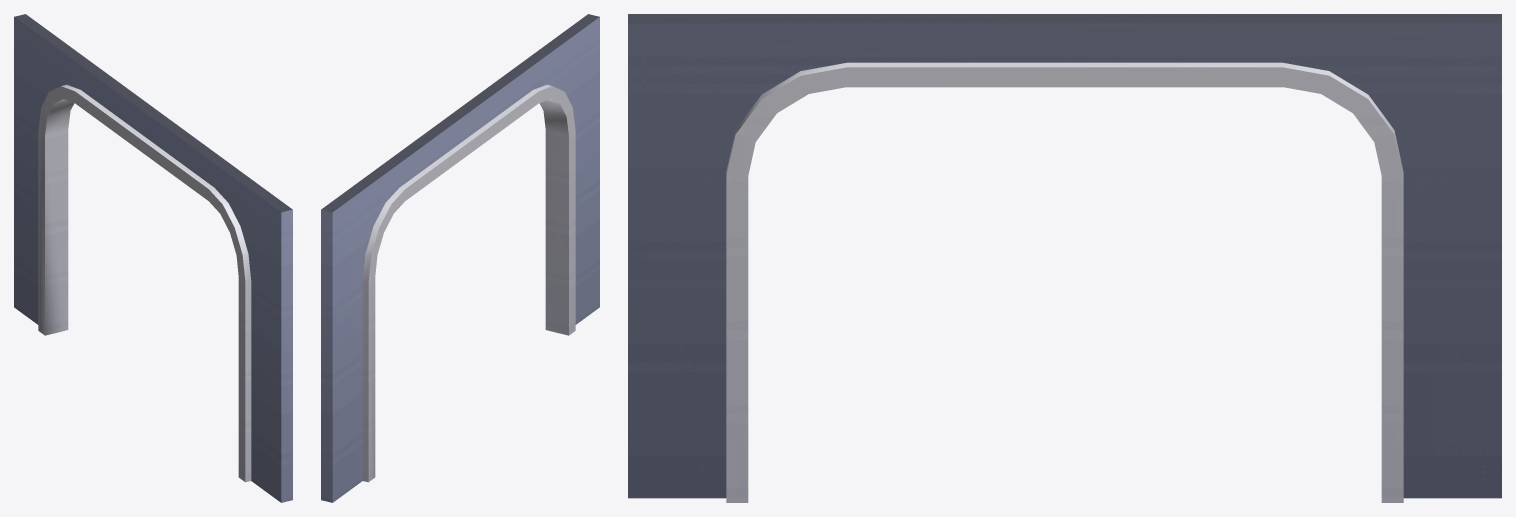
File: wall-doorway-wide-round.glb
The picture shows the model from 3 angles, left to right: view 1: azimuth 30°, elevation 25°; view 2: azimuth 150°, elevation 25°; view 3: azimuth 270°, elevation 25°; orthographic projection. The views are drawn at different scales.
Visible parts, largest first — view 1: wall-doorway-wide-round; view 2: wall-doorway-wide-round; view 3: wall-doorway-wide-round.
Part boxes in pixels (x1,y1,x2,y2): wall-doorway-wide-round: [14, 14, 292, 502]; wall-doorway-wide-round: [321, 14, 599, 502]; wall-doorway-wide-round: [628, 14, 1501, 502].
Size of the model in its own units: 0.2 by 2.4 by 4.
Materials: 1 (1 with a texture image).
